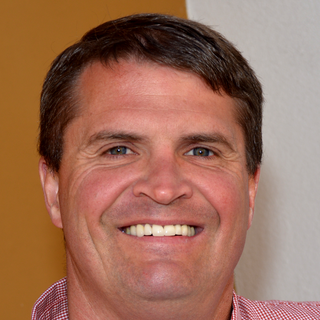eye: (177, 141, 228, 165), (93, 139, 145, 161)
